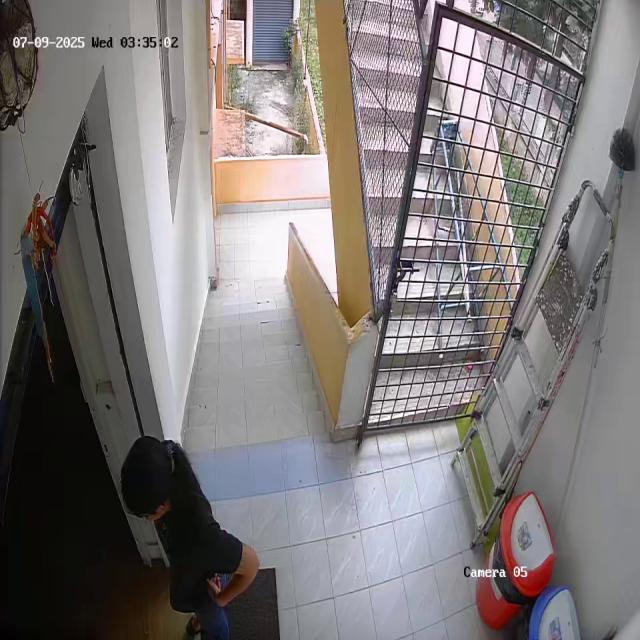person: (113, 428, 260, 640)
